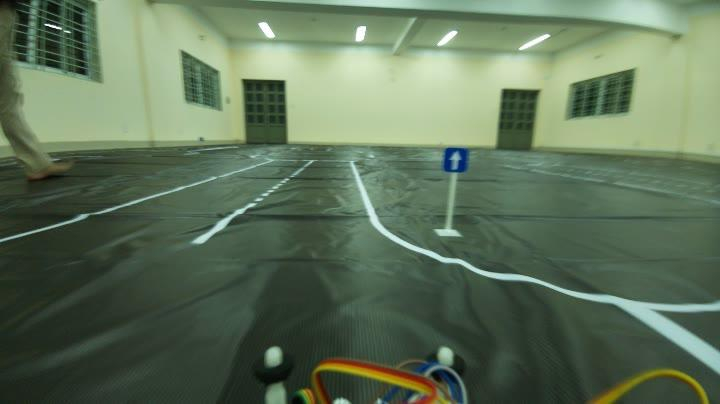onewayroad: (437, 144, 472, 176)
